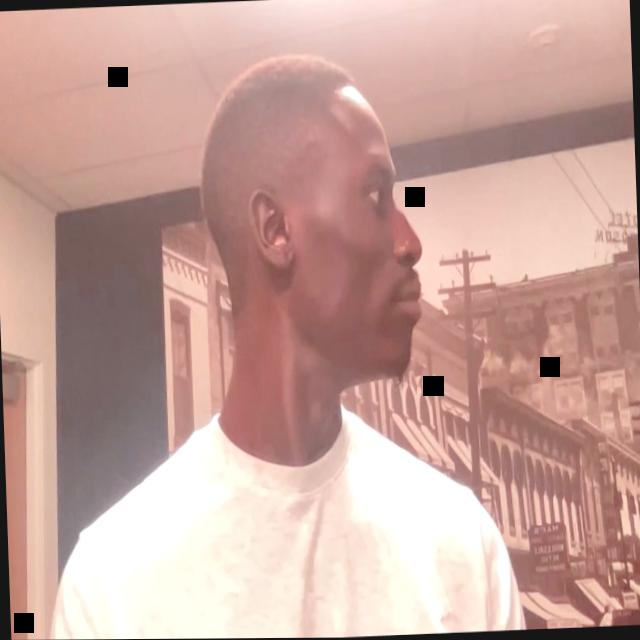NO-Mask: (196, 48, 427, 393)
